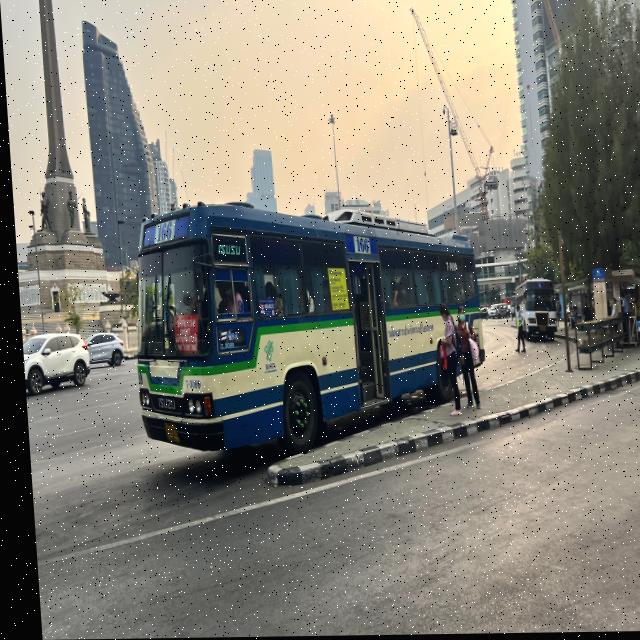BMTA-bus: (122, 202, 485, 464)
Bus-Line-Number: (348, 233, 368, 255), (151, 221, 172, 240)
Destination-Sign-Extra-Bus: (167, 313, 195, 355)
